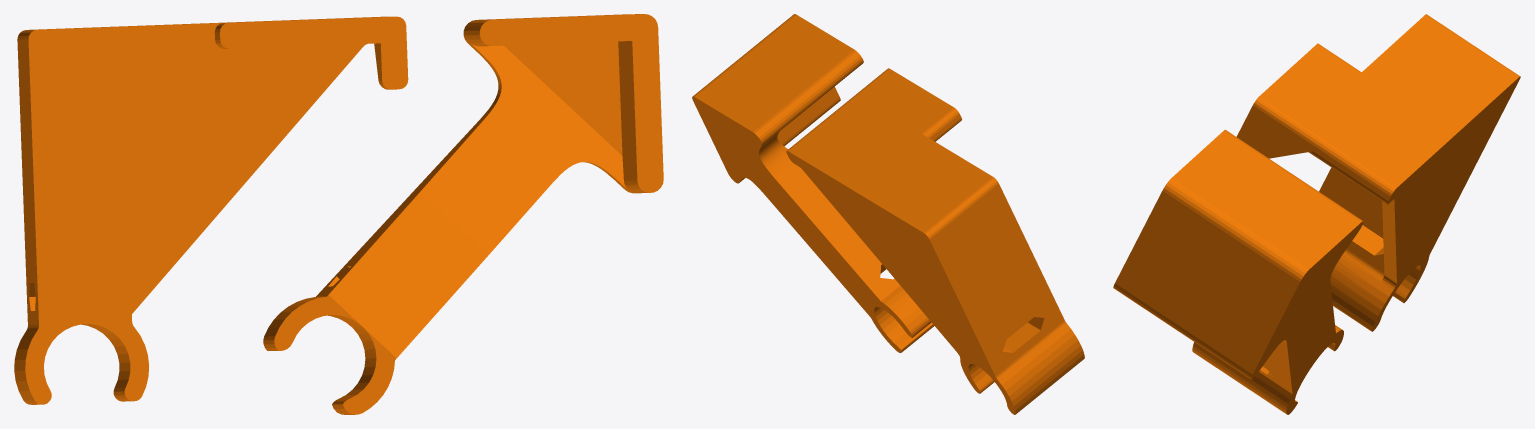
The model's file is KobraNeoBuildplateGuide.glb.
3 renders of one model, left to right at view 1: azimuth 30°, elevation 25°; view 2: azimuth 150°, elevation 25°; view 3: azimuth 270°, elevation 25°, orthographic. The views are drawn at different scales.
Parts seen in each view (by area): view 1: KobraNeoBuildplateGuide_LowRes; view 2: KobraNeoBuildplateGuide_LowRes; view 3: KobraNeoBuildplateGuide_LowRes.
Boxes of the visible parts, x1,y1,x2,y2 form: KobraNeoBuildplateGuide_LowRes: [14, 14, 663, 414]; KobraNeoBuildplateGuide_LowRes: [692, 14, 1084, 414]; KobraNeoBuildplateGuide_LowRes: [1113, 14, 1520, 414].
Size of the model in its own units: 74.19 by 47.74 by 53.42.
